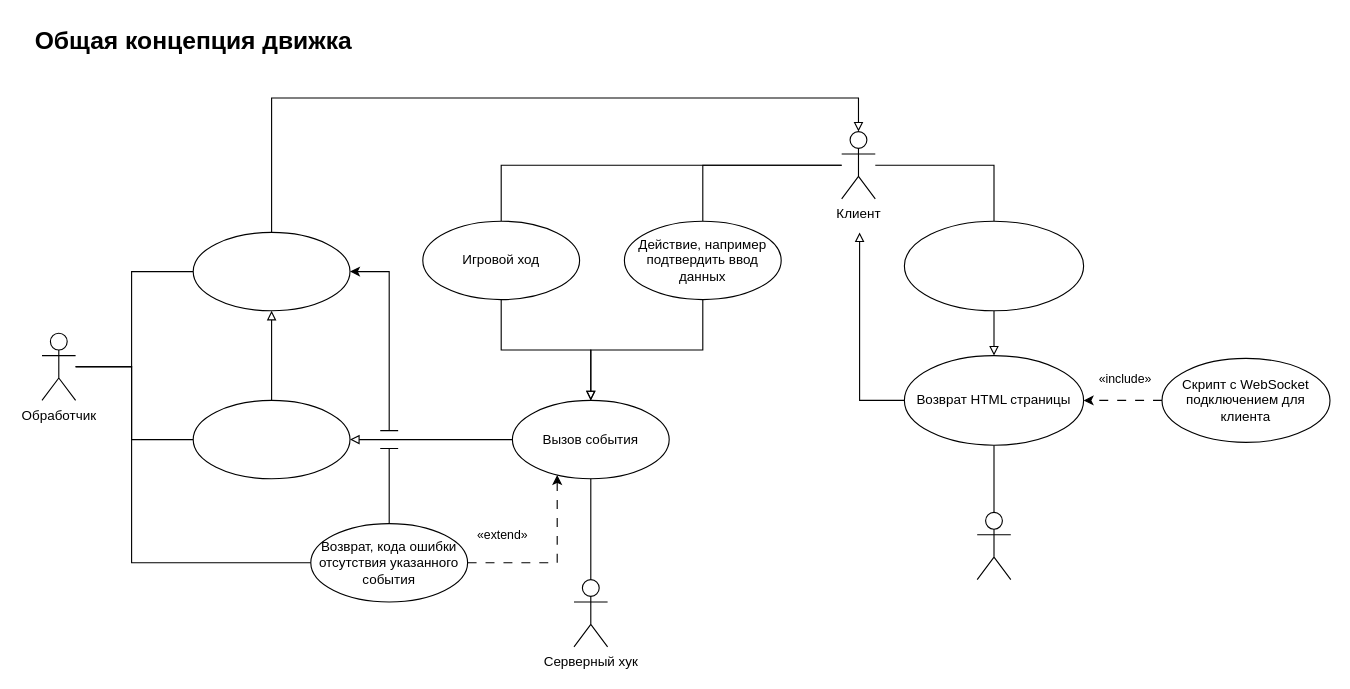
The diagram is 1350 pixels wide and 689 high, and some of its shapes have lost their labels. Here are the shapes that lost their labels. From the top down, the box of each, then its label:
(192, 231, 350, 311): Ответ от WebSocket
(903, 220, 1084, 311): переход на страницу /my-site.com /my-site.com/login
(192, 399, 350, 479): Обработка события
(976, 511, 1011, 580): Рендер HTML
